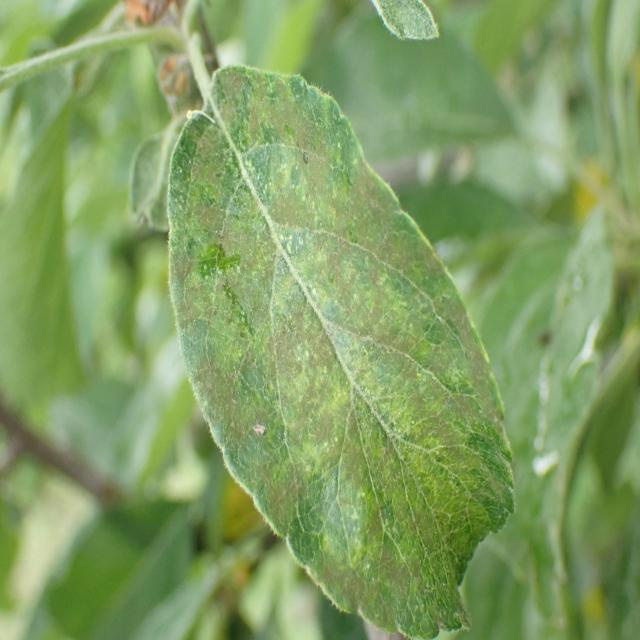scab: (156, 41, 517, 640)
